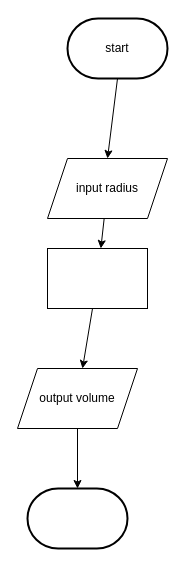
This 186x566 diagram has some shape labels left out. Here are the shapes that lost their labels. From the top down, the centre of each, then its label:
pixel 97 278: V=(4/3) πr ³
pixel 77 518: Stop
